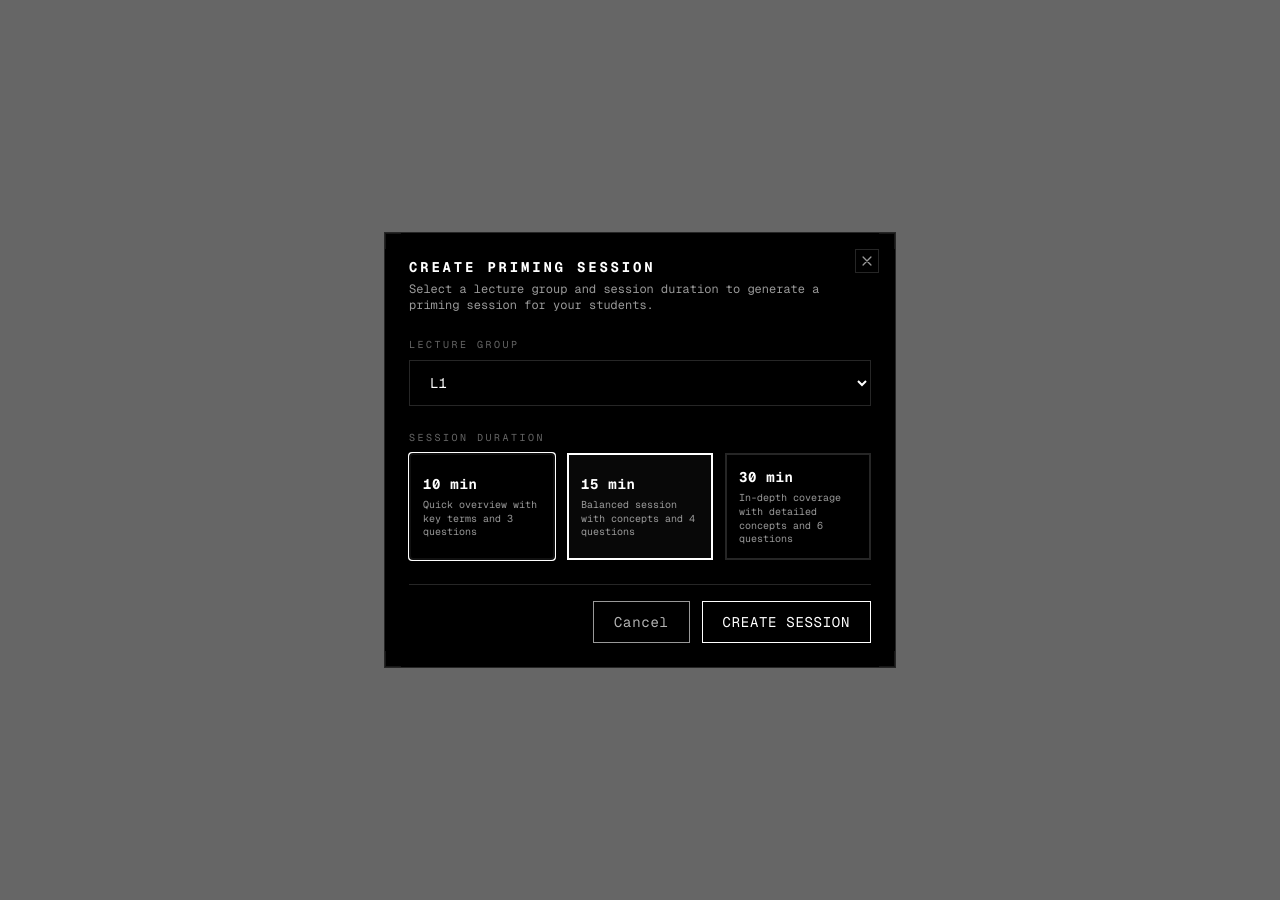
Test: CreateSessionModal › displays fallback error on network failure
Select "L1" in the dropdown at (640,383), box [409, 360, 871, 406]
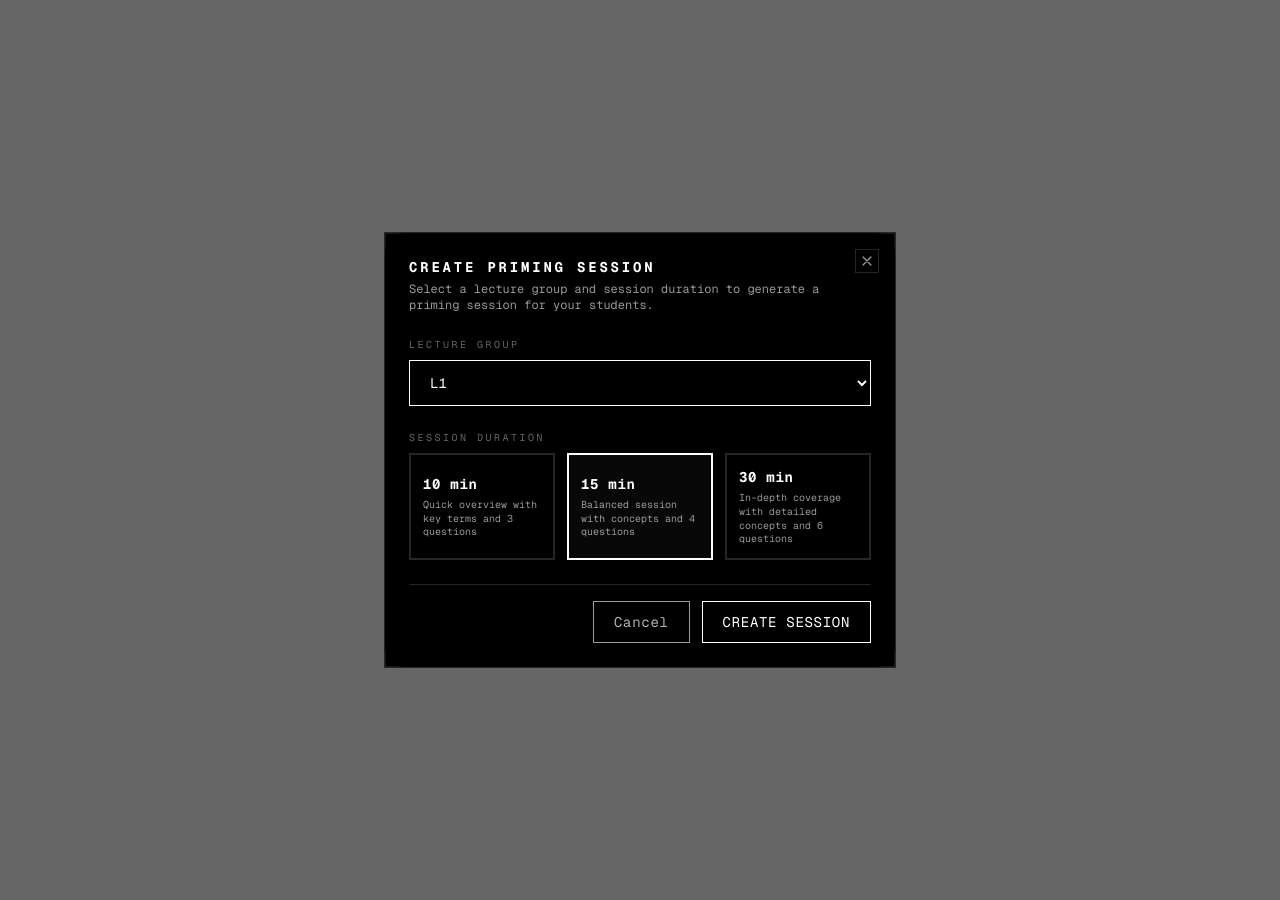
Click the button "CREATE SESSION".
click(786, 622)  # box [702, 601, 871, 643]
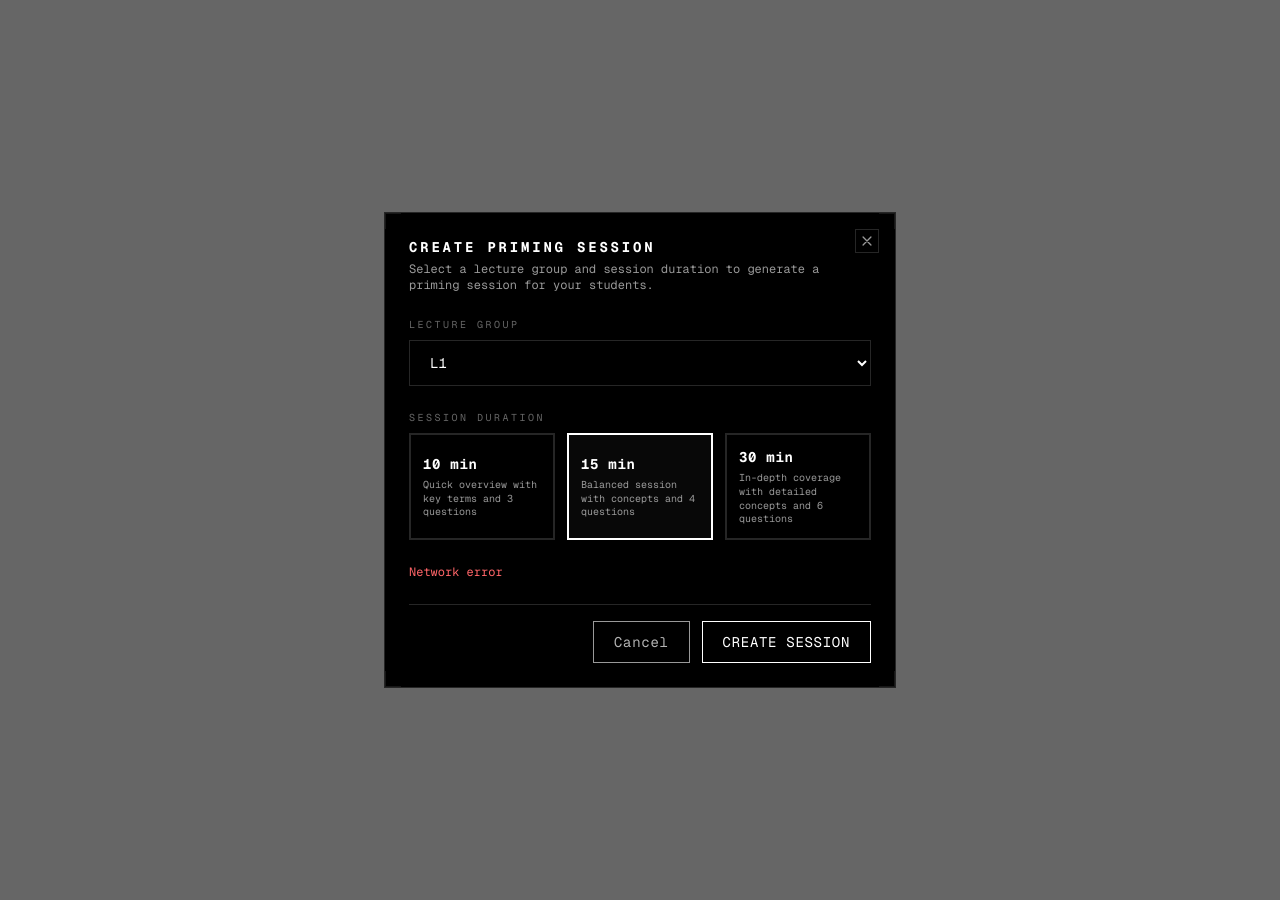
Expected: the text "Network error" is shown, [409, 564, 503, 580]
